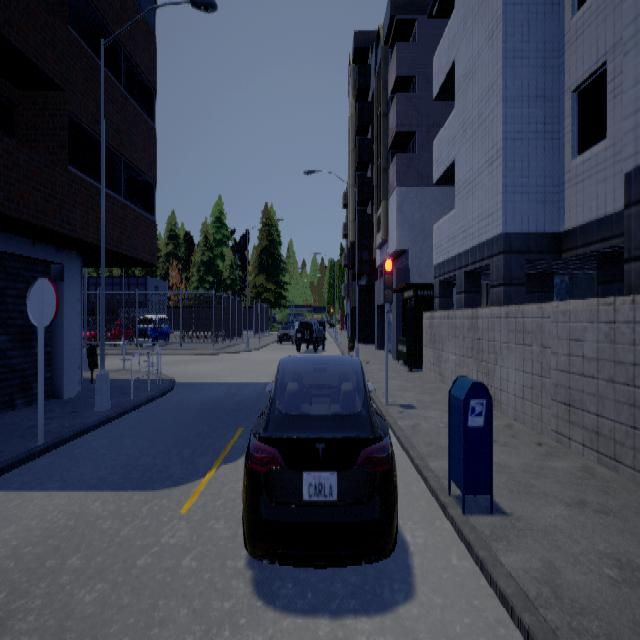red_light: (382, 248, 392, 312)
traffic_sign: (25, 276, 56, 327)
vehicle: (241, 353, 397, 568), (276, 317, 325, 352), (137, 313, 171, 340)
